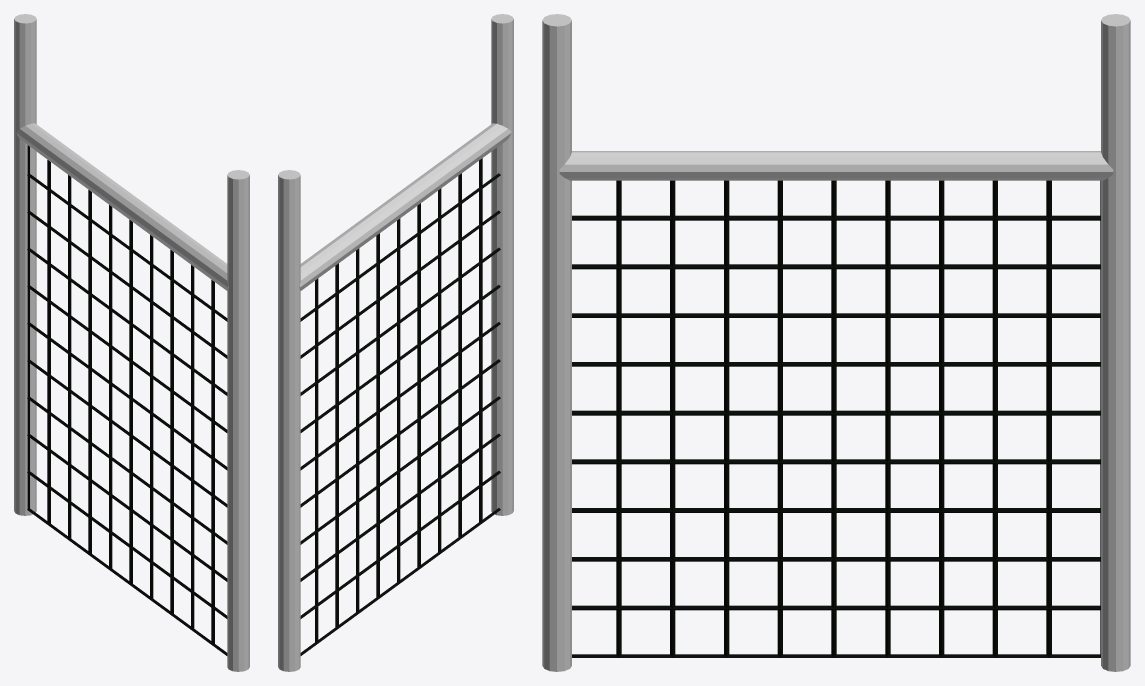
The model's file is Metal_Fence_024.fbx.
3 renders of one model, left to right at view 1: azimuth 30°, elevation 25°; view 2: azimuth 150°, elevation 25°; view 3: azimuth 270°, elevation 25°, orthographic. The views are drawn at different scales.
Parts seen in each view (by area): view 1: Metal Fence.024; view 2: Metal Fence.024; view 3: Metal Fence.024.
Boxes of the visible parts, x1,y1,x2,y2 form: Metal Fence.024: (14,14,249,671); Metal Fence.024: (278,14,513,671); Metal Fence.024: (542,14,1130,671).
Bounding box in the file's own units: 25.89 × 621 × 513.
